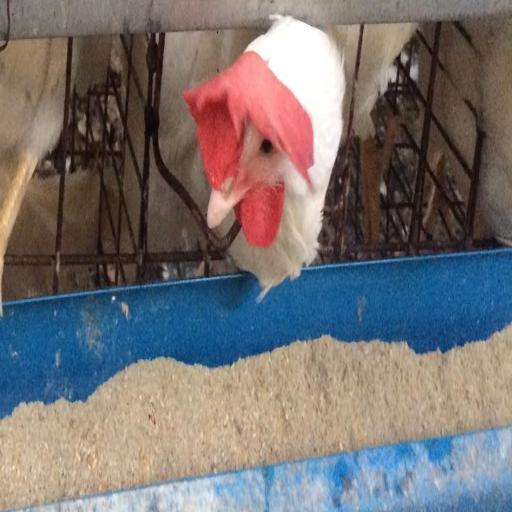healthy: (188, 29, 317, 250)
